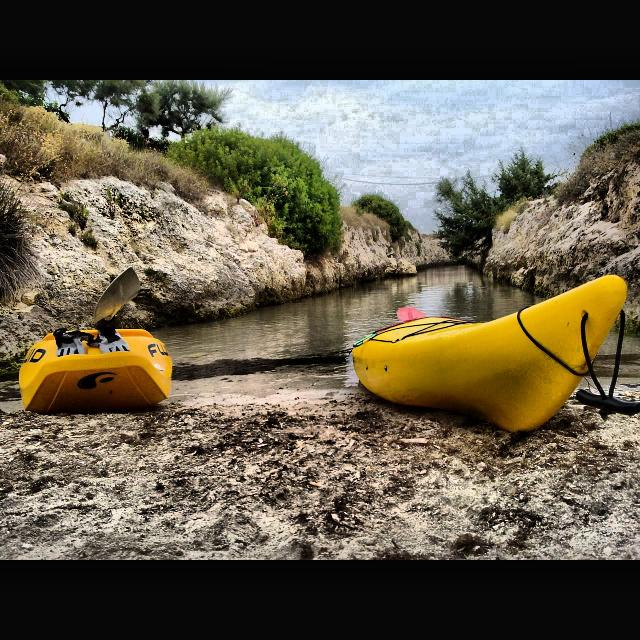kayak: (352, 274, 630, 436), (18, 324, 174, 414)
